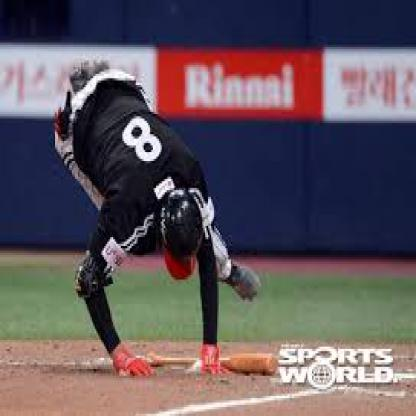Fall_Down: (52, 65, 265, 380)
